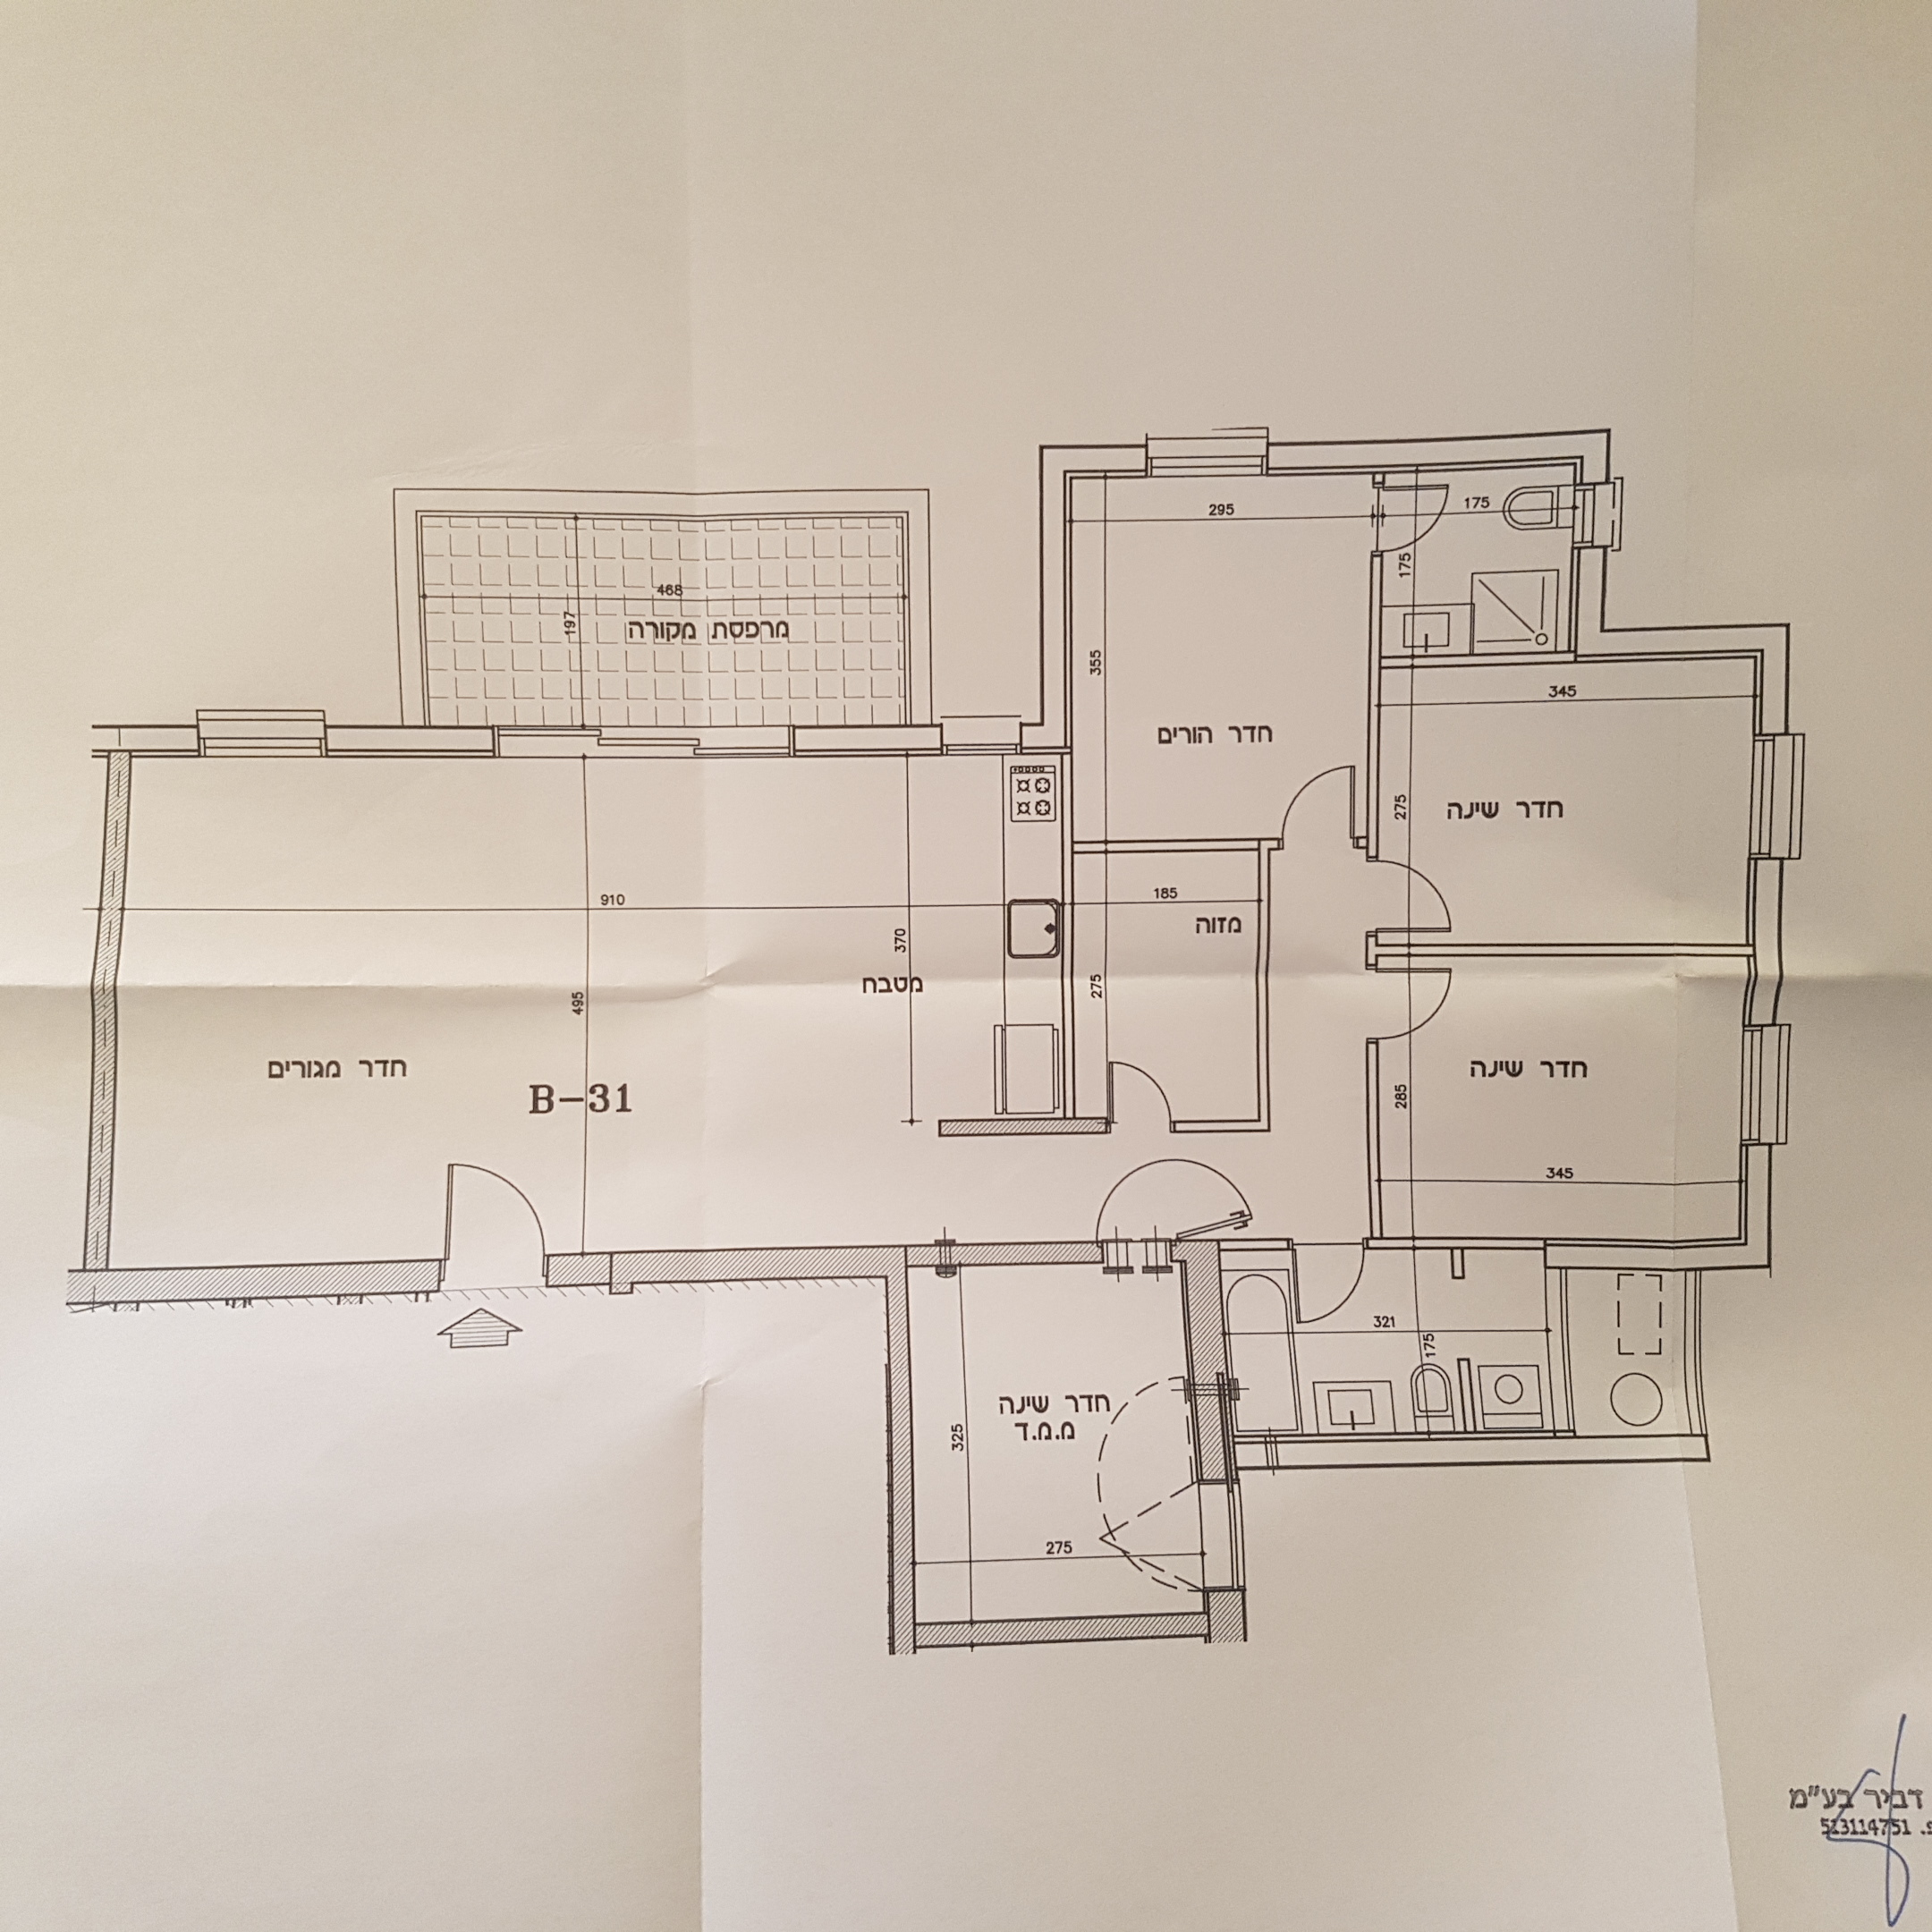door: (439, 1150, 547, 1302), (1260, 754, 1376, 863), (1346, 952, 1460, 1054), (1357, 842, 1468, 938), (1100, 1026, 1173, 1159)
wall: (617, 1233, 902, 1302)
window: (195, 694, 329, 773), (1744, 729, 1817, 869), (1734, 1024, 1805, 1150), (1146, 425, 1269, 481)
